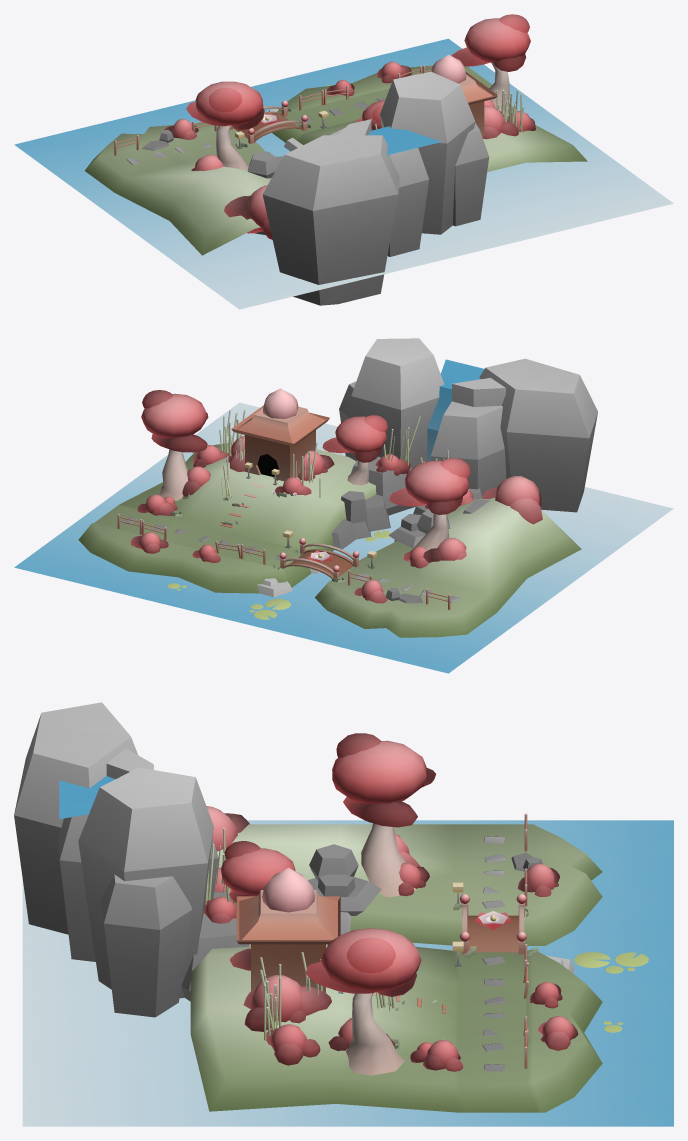
File: M_TestSceneM_TestScene.fbx
The picture shows the model from 3 angles, top to bottom: view 1: azimuth 30°, elevation 25°; view 2: azimuth 150°, elevation 25°; view 3: azimuth 270°, elevation 25°; orthographic projection. The views are drawn at different scales.
Visible parts, largest first — view 1: polySurface5, polySurface298, polySurface159, polySurface160, polySurface104, polySurface61, polySurface91, polySurface119, polySurface267, polySurface236, polySurface75, polySurface296 (+3 smaller); view 2: polySurface5, polySurface298, polySurface160, polySurface159, polySurface91, polySurface104, polySurface61, polySurface144, polySurface295, polySurface119, polySurface236, polySurface267 (+8 smaller); view 3: polySurface5, polySurface298, polySurface160, polySurface159, polySurface61, polySurface104, polySurface91, polySurface296, polySurface144, polySurface75, polySurface267, polySurface69 (+12 smaller).
Part boxes in pixels (box(x1,y1,x2,y2)): polySurface5: box(14, 38, 673, 309); polySurface298: box(262, 71, 489, 305); polySurface159: box(84, 123, 271, 255); polySurface160: box(272, 65, 587, 171); polySurface104: box(451, 14, 530, 115); polySurface61: box(186, 81, 264, 169); polySurface91: box(431, 54, 497, 136); polySurface119: box(224, 185, 272, 239); polySurface267: box(230, 100, 307, 143); polySurface236: box(368, 126, 441, 155); polySurface75: box(482, 105, 518, 139); polySurface296: box(247, 151, 283, 178); polySurface5: box(14, 402, 673, 673); polySurface298: box(339, 338, 597, 515); polySurface160: box(78, 443, 376, 593); polySurface159: box(315, 497, 581, 637); polySurface91: box(231, 388, 329, 481); polySurface104: box(141, 390, 208, 500); polySurface61: box(389, 458, 470, 562); polySurface144: box(322, 415, 387, 485); polySurface295: box(331, 491, 390, 549); polySurface119: box(482, 476, 542, 524); polySurface236: box(427, 359, 484, 461); polySurface267: box(279, 538, 359, 578); polySurface5: box(22, 820, 673, 1126); polySurface298: box(14, 702, 248, 1017); polySurface160: box(190, 944, 602, 1112); polySurface159: box(217, 824, 602, 945); polySurface61: box(332, 733, 435, 897); polySurface104: box(306, 928, 421, 1075); polySurface91: box(236, 868, 340, 992); polySurface296: box(308, 844, 381, 934); polySurface144: box(220, 841, 295, 945); polySurface75: box(243, 975, 331, 1031); polySurface267: box(459, 894, 526, 954); polySurface69: box(266, 1024, 320, 1065).
Size of the model in its own units: 4459 by 2077 by 4060.
1 material, 1 textured.
